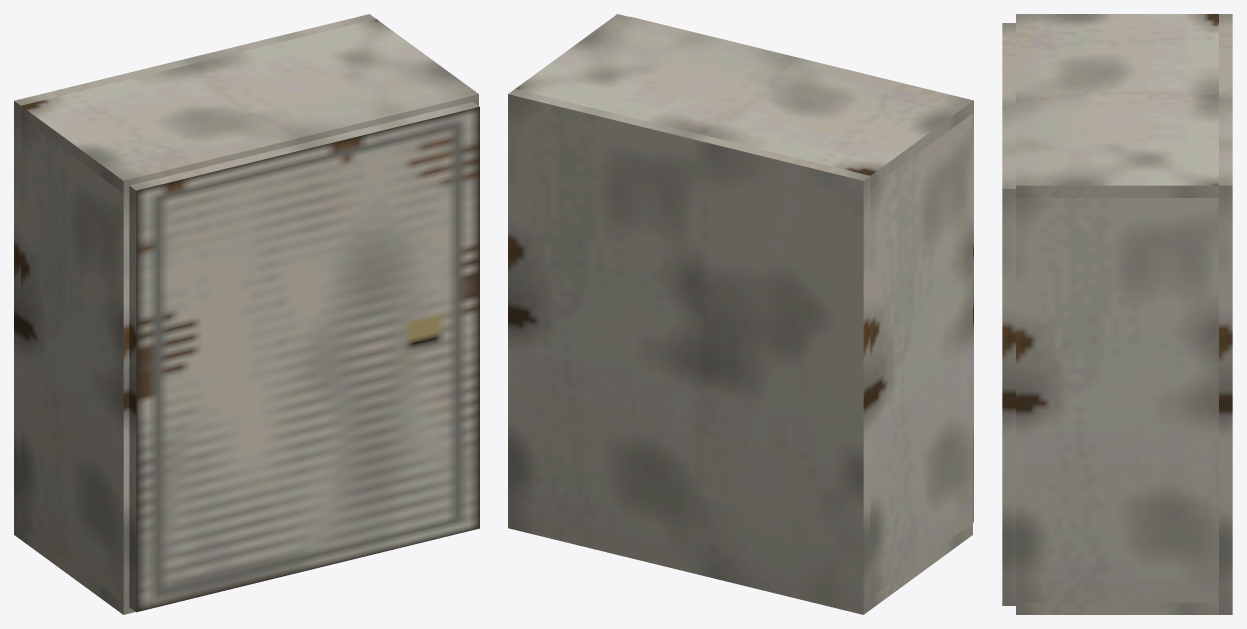
Rendered from wall_cabinet_white.obj.
3 views of the same model, side by side, from view 1: azimuth 30°, elevation 25°; view 2: azimuth 150°, elevation 25°; view 3: azimuth 270°, elevation 25° (orthographic).
Visible parts, largest first — view 1: wall_cabinet_white_door, wall_cabinet_white; view 2: wall_cabinet_white, wall_cabinet_white_door; view 3: wall_cabinet_white, wall_cabinet_white_door.
Boxes of the visible parts, x1=… form: wall_cabinet_white_door: x1=129, y1=102, x2=479, y2=612; wall_cabinet_white: x1=14, y1=14, x2=478, y2=614; wall_cabinet_white: x1=508, y1=14, x2=972, y2=614; wall_cabinet_white_door: x1=630, y1=16, x2=973, y2=522; wall_cabinet_white: x1=1016, y1=14, x2=1232, y2=614; wall_cabinet_white_door: x1=1002, y1=23, x2=1015, y2=605.
Bounding box in the file's own units: 0.6 × 0.7 × 0.34.
Materials: 1 (1 with a texture image).
